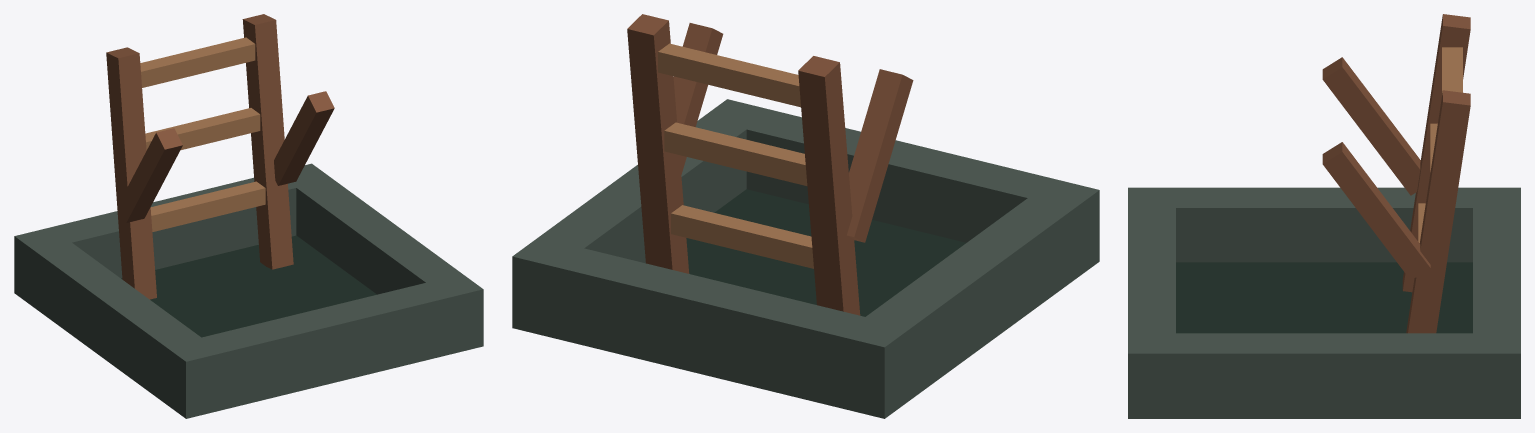
The model's file is ladder_down.glb.
3 views of the same model, side by side, from view 1: azimuth 30°, elevation 25°; view 2: azimuth 150°, elevation 25°; view 3: azimuth 270°, elevation 25° (orthographic). The views are drawn at different scales.
Visible parts, largest first — view 1: geometry; view 2: geometry; view 3: geometry.
Boxes of the visible parts, bbox=[...] form: geometry: bbox=[14, 14, 483, 418]; geometry: bbox=[512, 14, 1099, 418]; geometry: bbox=[1128, 14, 1520, 418].
Bounding box in the file's own units: 0.98 × 0.7648 × 0.98.
